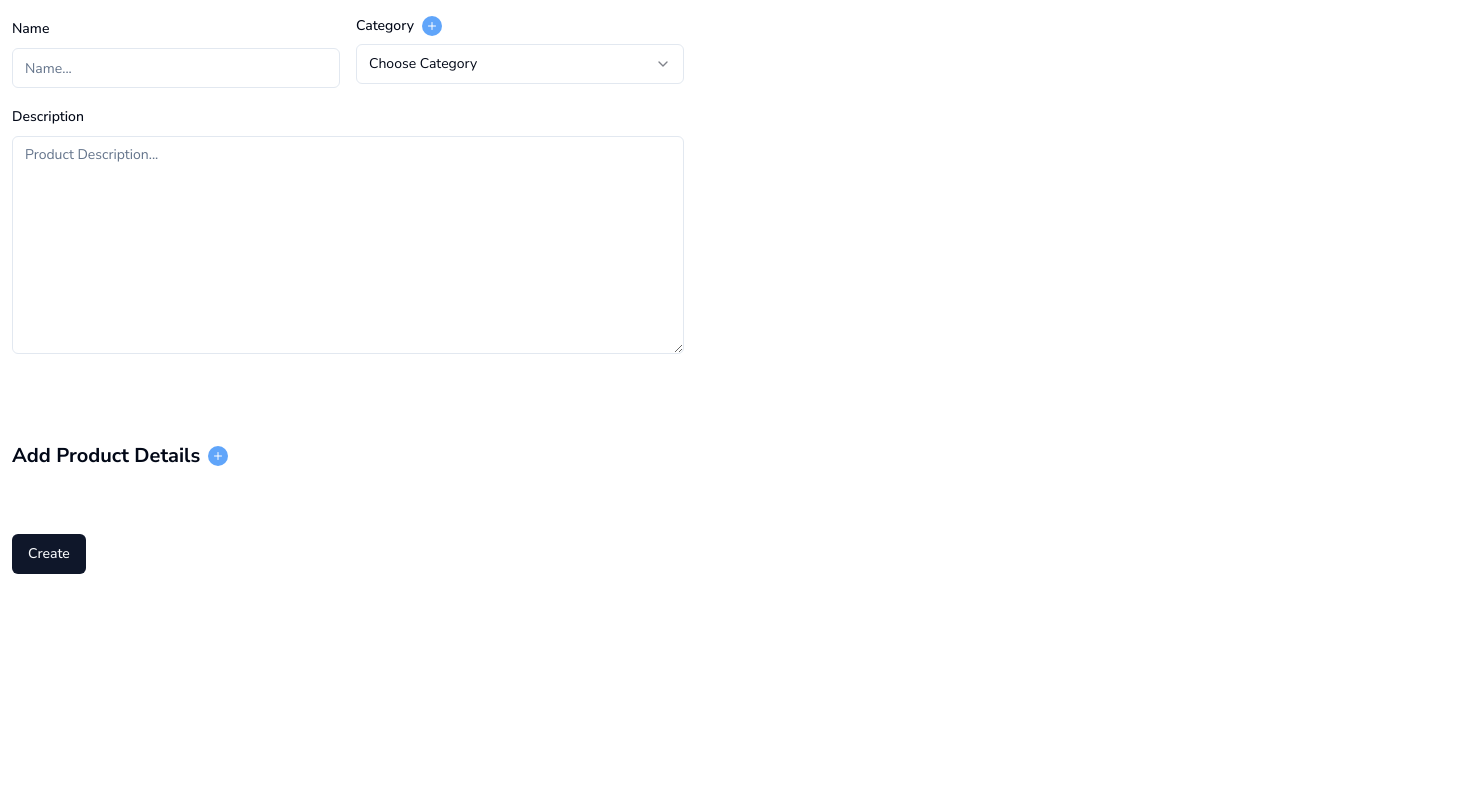
Test: Add and update product form for sellers › Removes product items on button click
Click the button with test id "add-product-item".
click(218, 456)  # box [208,446,228,466]
(page scrolled)
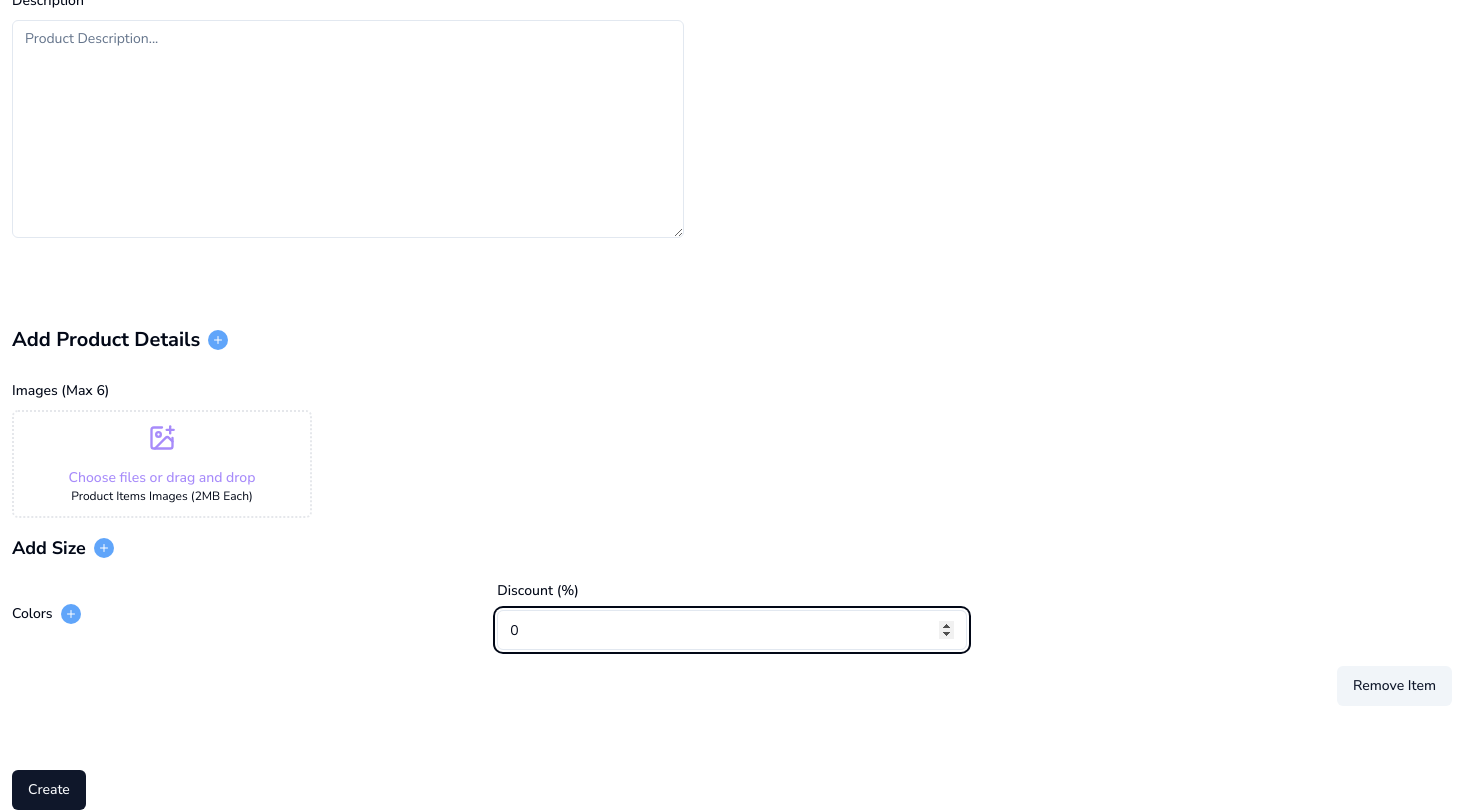
expect the element with test id "product-item-form" is shown: met, box [12,378,1452,706]
expect the button with test id "remove-product-item" is shown: met
Click the button with test id "remove-product-item".
click(1395, 686)  # box [1337,666,1452,706]
(page scrolled)
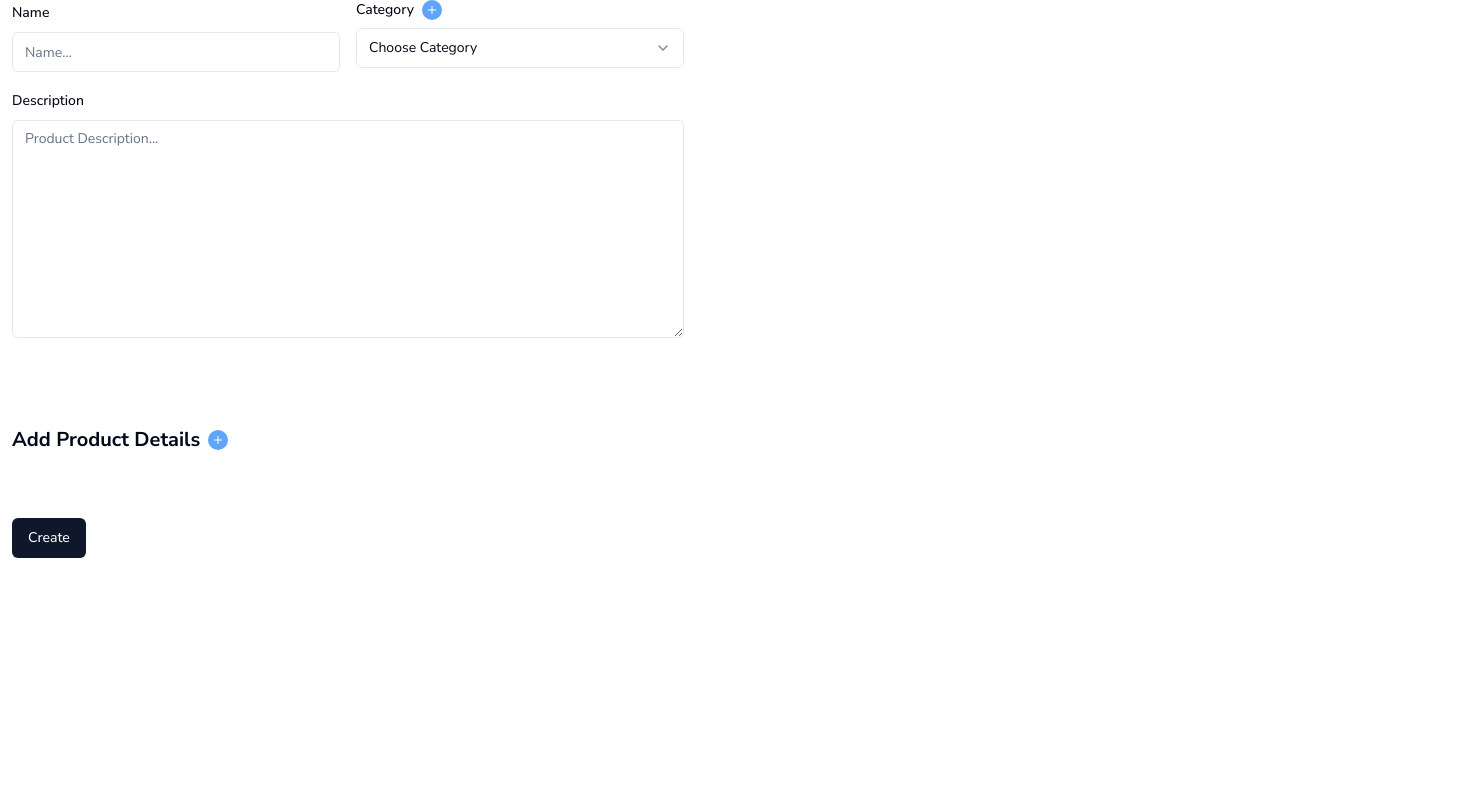
expect the button with test id "remove-product-item" is gone: met
